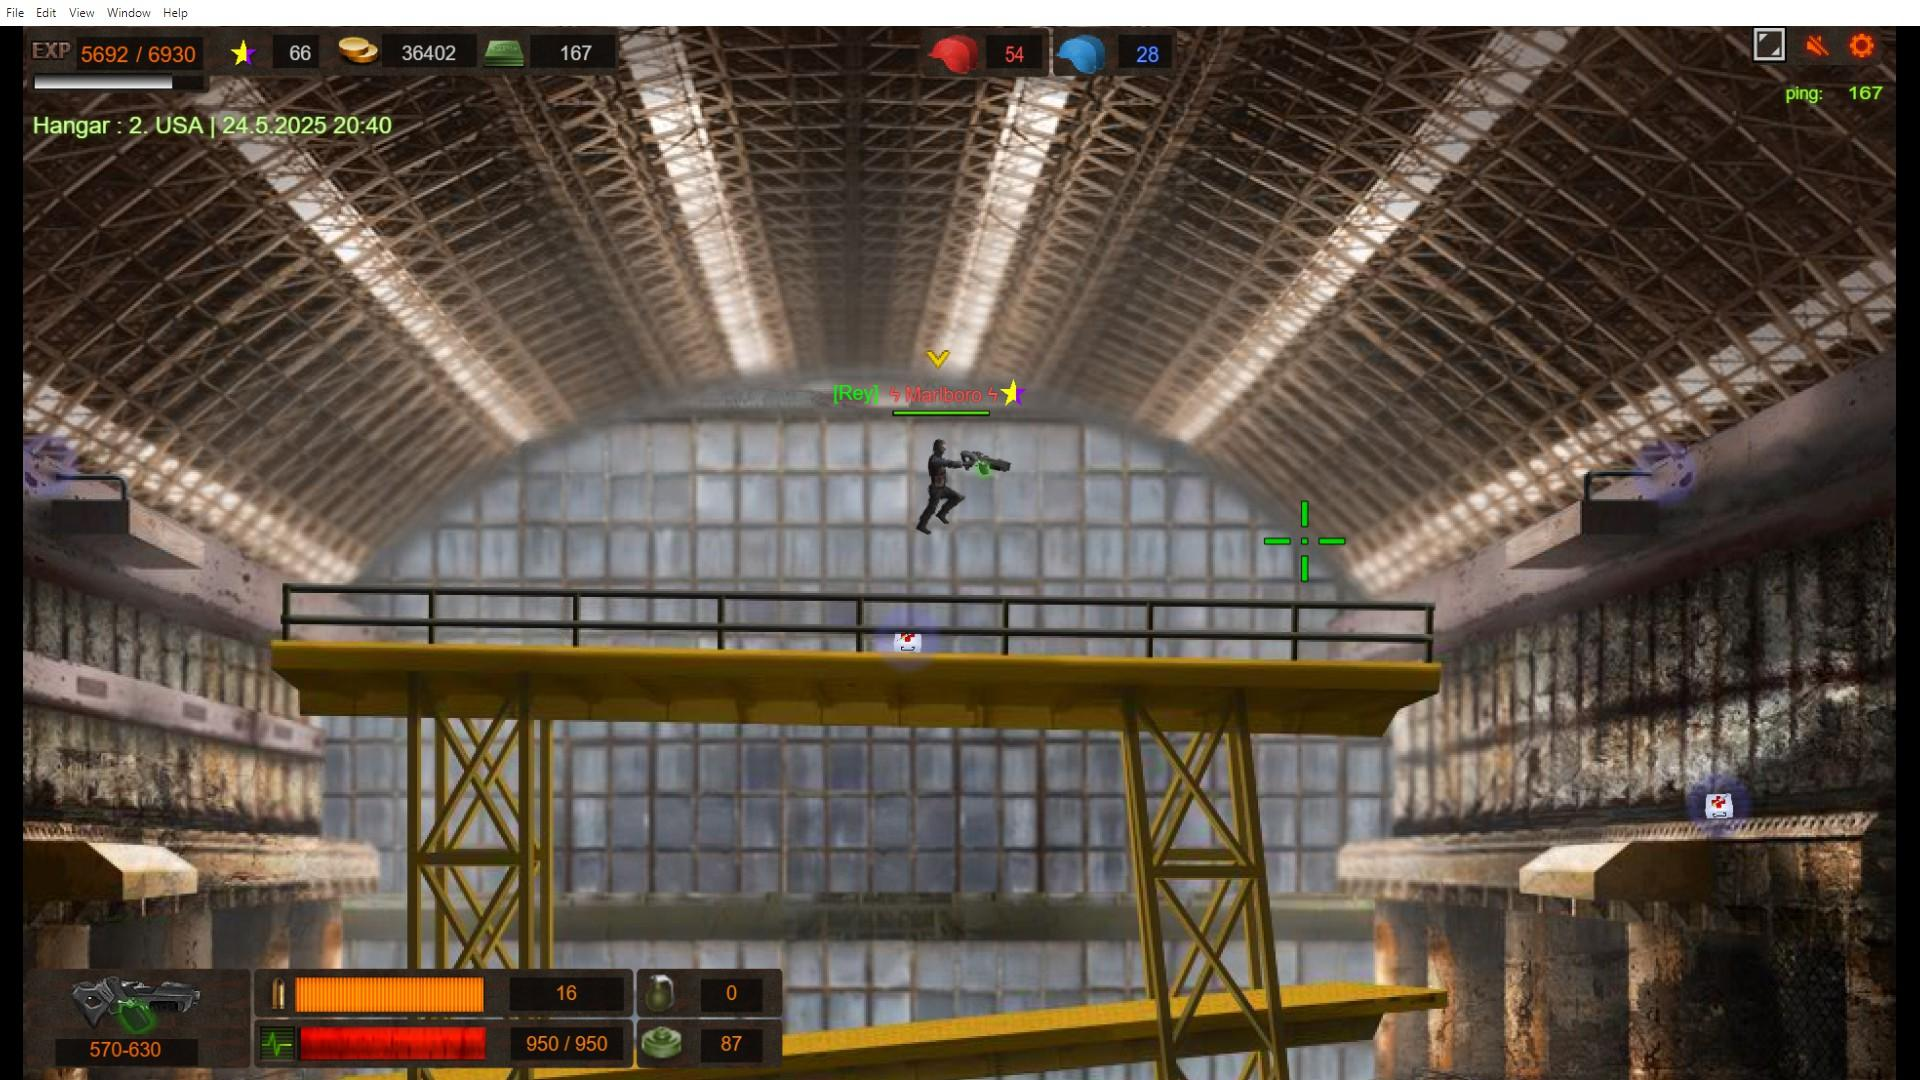enemy: (927, 439, 952, 534)
